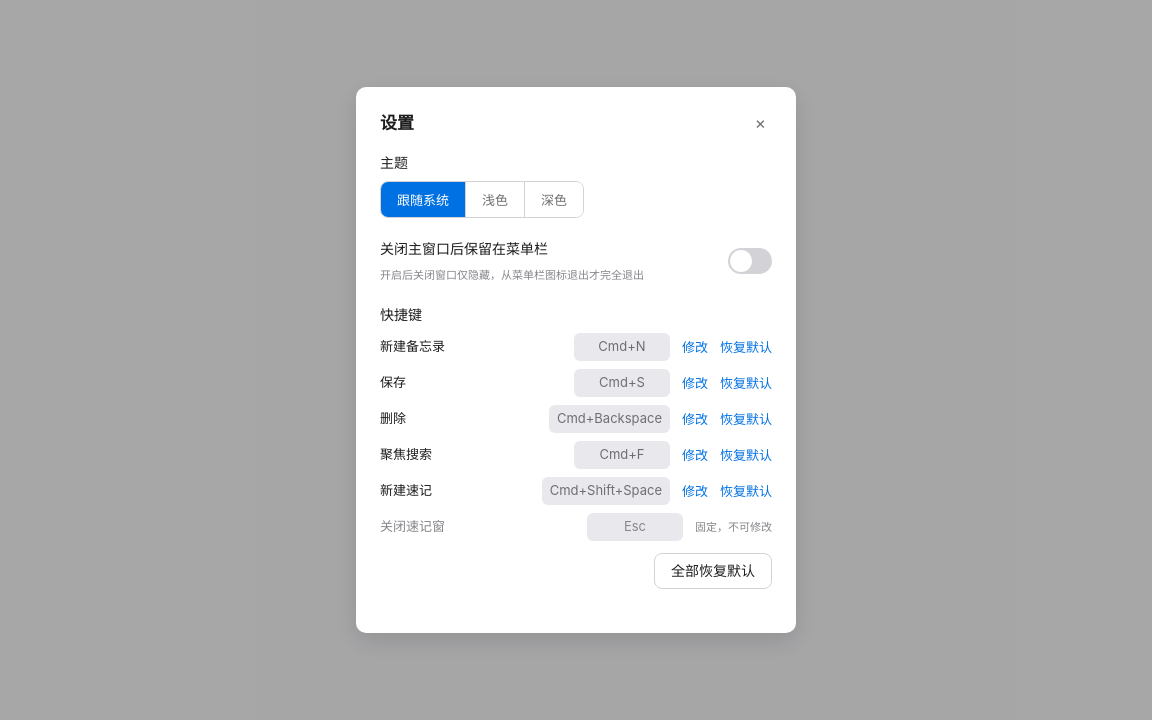
SettingsPanel › 录制态按下非法组合提示必须含修饰键
Click the button with class "settings__link" in the row of "新建备忘录" at (695, 347), box [682, 337, 708, 356]
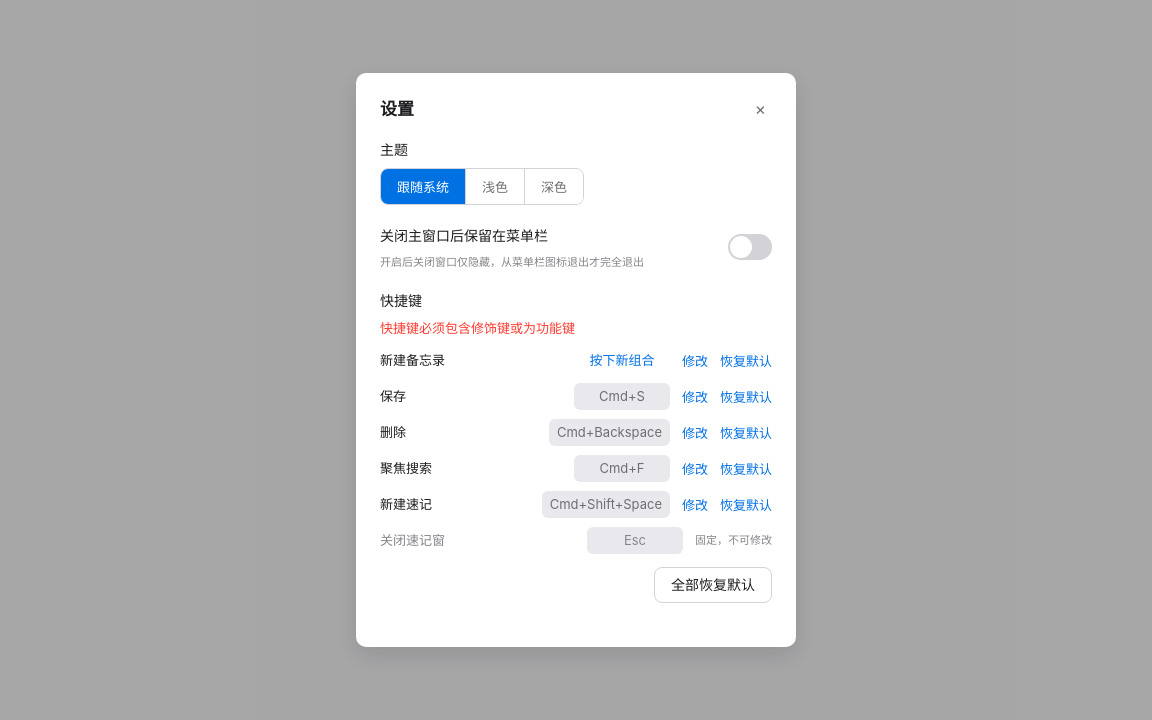
Check: the text "按下新组合" is shown, box [590, 352, 654, 368]
Check: the text "快捷键必须包含修饰键或为功能键" is shown, box [380, 320, 575, 336]
